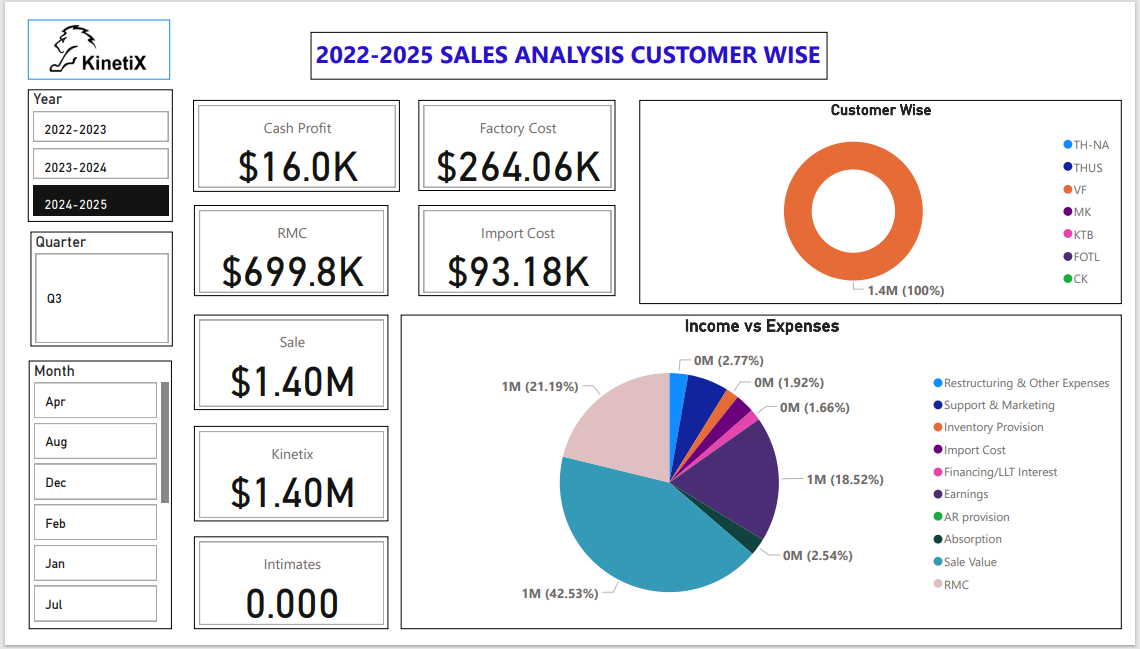

This screenshot's page, from the dashboard's own definition file:
{"tool":"powerbi","page":{"name":"Page 1","canvas":[1280,720],"ordinal":0},"visuals":[{"type":"advancedSlicerVisual","fields":{"Values":["Sheet2.Year"]},"box":[27,95.4,163.8,149.5],"z":0},{"type":"advancedSlicerVisual","fields":{"Values":["Sheet2.Month"]},"box":[28,402,162,304],"z":1000},{"type":"advancedSlicerVisual","fields":{"Values":["Sheet2.Quarter"]},"box":[30.2,256.1,160.7,130.4],"z":2000},{"type":"cardVisual","fields":{"Data":["Sum(Sheet2.Cash Profit)"]},"box":[214.7,106.6,219.5,103.4],"z":3000},{"type":"cardVisual","fields":{"Data":["Sum(Sheet2.RMC)"]},"box":[214.7,225.9,219.5,103.4],"z":4000},{"type":"cardVisual","fields":{"Data":["Sum(Sheet2.Sale)"]},"box":[214.7,349.9,219.5,108.2],"z":5000},{"type":"cardVisual","fields":{"Data":["Sum(Sheet2.Kinetix)"]},"box":[214.7,475.6,219.5,108.2],"z":6000},{"type":"cardVisual","fields":{"Data":["Sum(Sheet2.Intimates)"]},"box":[214.7,601.3,219.5,105],"z":7000},{"type":"cardVisual","fields":{"Data":["Sum(Sheet2.Factory Cost)"]},"box":[469.2,106.6,222.7,103.4],"z":8000},{"type":"cardVisual","fields":{"Data":["Sum(Sheet2.Import Cost)"]},"box":[469.2,225.9,222.7,103.4],"z":9000},{"type":"donutChart","title":"Customer Wise","fields":{"Y":["Sum(Sheet2.TH-NA)","Sum(Sheet2.THUS)","Sum(Sheet2.VF )","Sum(Sheet2.MK )","Sum(Sheet2.KTB)","Sum(Sheet2.FOTL)","Sum(Sheet2.CK)"]},"box":[719,106.6,545.6,230.6],"z":10000},{"type":"pieChart","title":"Income vs Expenses","fields":{"Y":["Sum(Sheet2.Restructuring & Other Expenses)","Sum(Sheet2.Support & Marketing)","Sum(Sheet2.Inventory Provision)","Sum(Sheet2.Import Cost)","Sum(Sheet2.Financing/LLT Interest)","Sum(Sheet2.Earnings)","Sum(Sheet2.AR provision)","Sum(Sheet2.Absorption)","Sum(Sheet2.Sale)","Sum(Sheet2.RMC)"]},"box":[448.6,349.9,816,356.3],"z":11000},{"type":"textbox","box":[346.8,30.2,585.3,54.1],"z":12000},{"type":"image","box":[27,15.9,160.7,68.4],"z":13000}]}

Visuals, with their boxes in screenshot pixels (x1, y1, x2, y2), scaled from the page's 1280x720 canvas onto the 1140x649 screenshot:
advancedSlicerVisual - Sheet2.Year: [left=24, top=86, right=170, bottom=221]
advancedSlicerVisual - Sheet2.Month: [left=25, top=362, right=169, bottom=636]
advancedSlicerVisual - Sheet2.Quarter: [left=27, top=231, right=170, bottom=348]
cardVisual - Sum(Sheet2.Cash Profit): [left=191, top=96, right=387, bottom=189]
cardVisual - Sum(Sheet2.RMC): [left=191, top=204, right=387, bottom=297]
cardVisual - Sum(Sheet2.Sale): [left=191, top=315, right=387, bottom=413]
cardVisual - Sum(Sheet2.Kinetix): [left=191, top=429, right=387, bottom=526]
cardVisual - Sum(Sheet2.Intimates): [left=191, top=542, right=387, bottom=637]
cardVisual - Sum(Sheet2.Factory Cost): [left=418, top=96, right=616, bottom=189]
cardVisual - Sum(Sheet2.Import Cost): [left=418, top=204, right=616, bottom=297]
"Customer Wise" donutChart: [left=640, top=96, right=1126, bottom=304]
"Income vs Expenses" pieChart: [left=400, top=315, right=1126, bottom=637]
textbox: [left=309, top=27, right=830, bottom=76]
image: [left=24, top=14, right=167, bottom=76]
